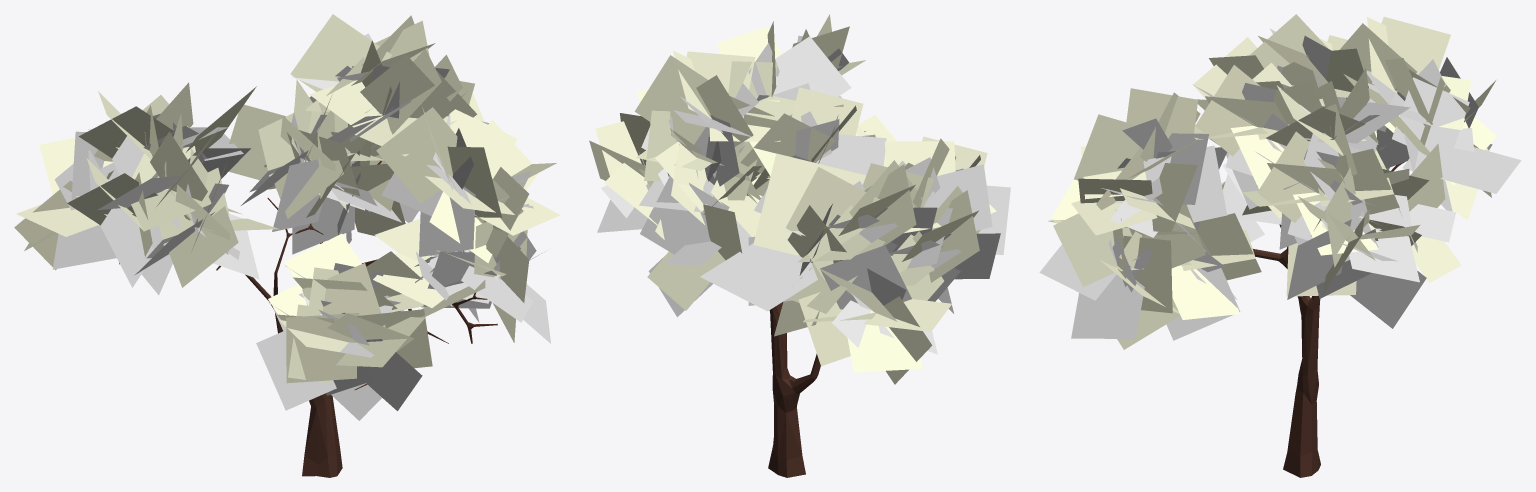
File: tree 03.fbx
3 renders of one model, left to right at view 1: azimuth 30°, elevation 25°; view 2: azimuth 150°, elevation 25°; view 3: azimuth 270°, elevation 25°, orthographic. The views are drawn at different scales.
Parts seen in each view (by area): view 1: Plane.061; view 2: Plane.061; view 3: Plane.061.
Part boxes in pixels (left/top/right/bottom): Plane.061: left=14, top=14, right=560, bottom=477; Plane.061: left=589, top=14, right=1010, bottom=477; Plane.061: left=1039, top=14, right=1521, bottom=477.
Bounding box in the file's own units: 1298 × 1289 × 1314.
